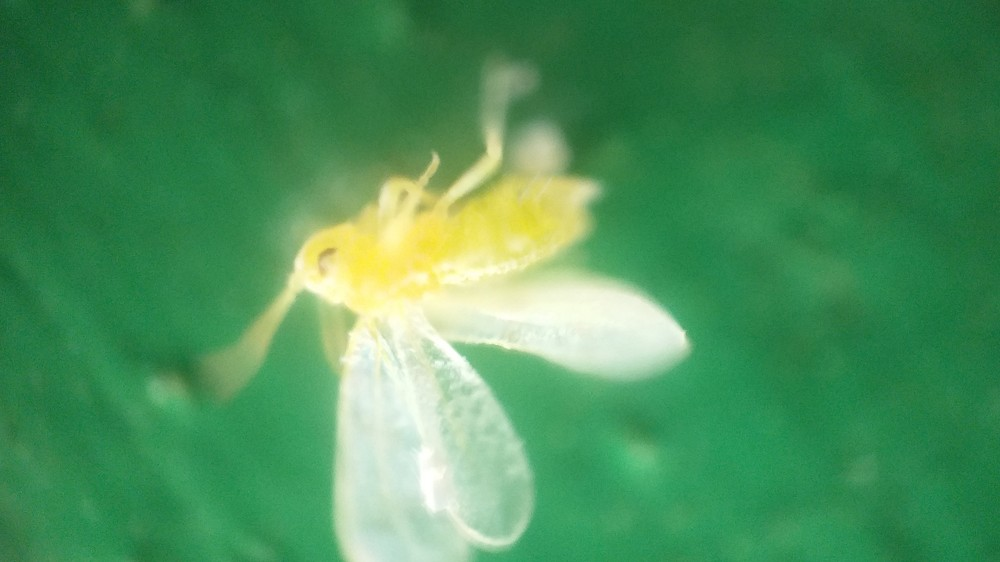Mosca Blanca: (202, 89, 707, 560)
